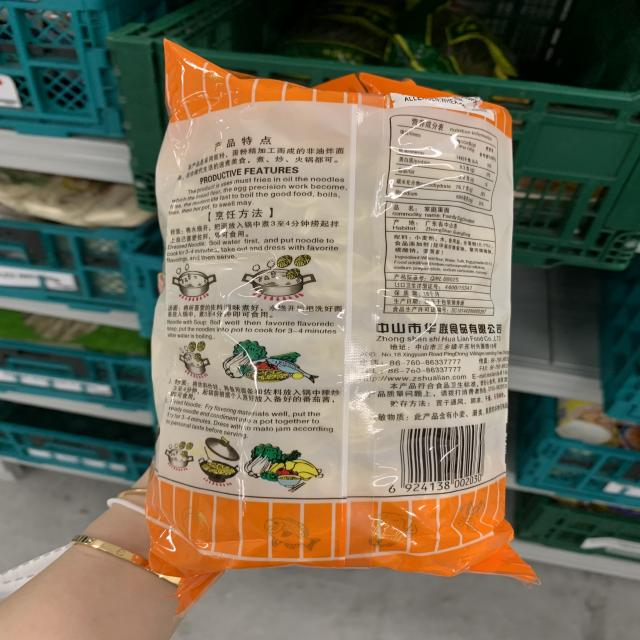object_name: (165, 65, 510, 564)
